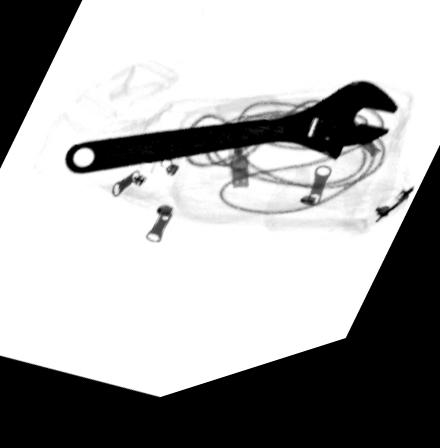Wrench: (62, 98, 401, 183)
